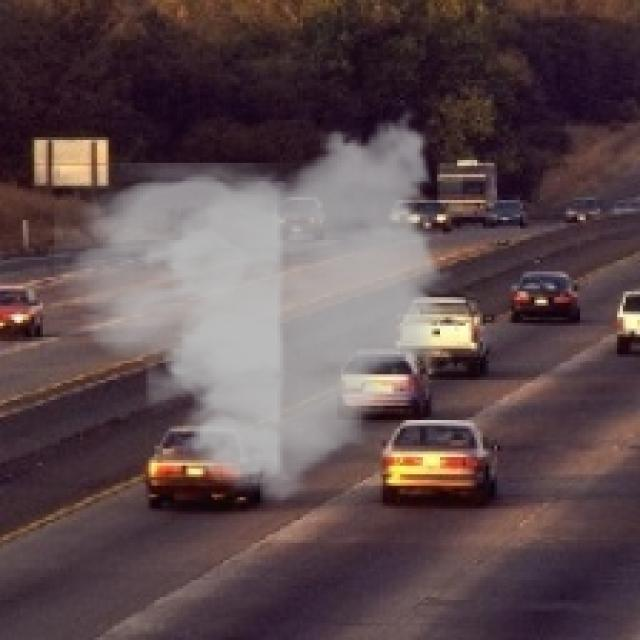Smoke: (54, 100, 457, 514)
